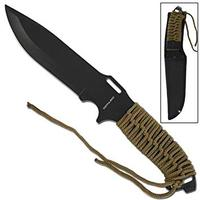knife: (2, 3, 138, 137), (160, 4, 194, 126)
